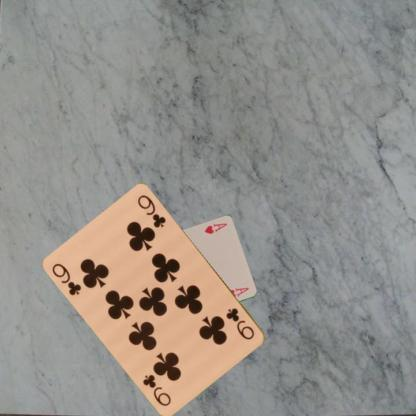9c: (50, 261, 83, 297), (224, 305, 256, 342)
Ah: (202, 220, 228, 235)
